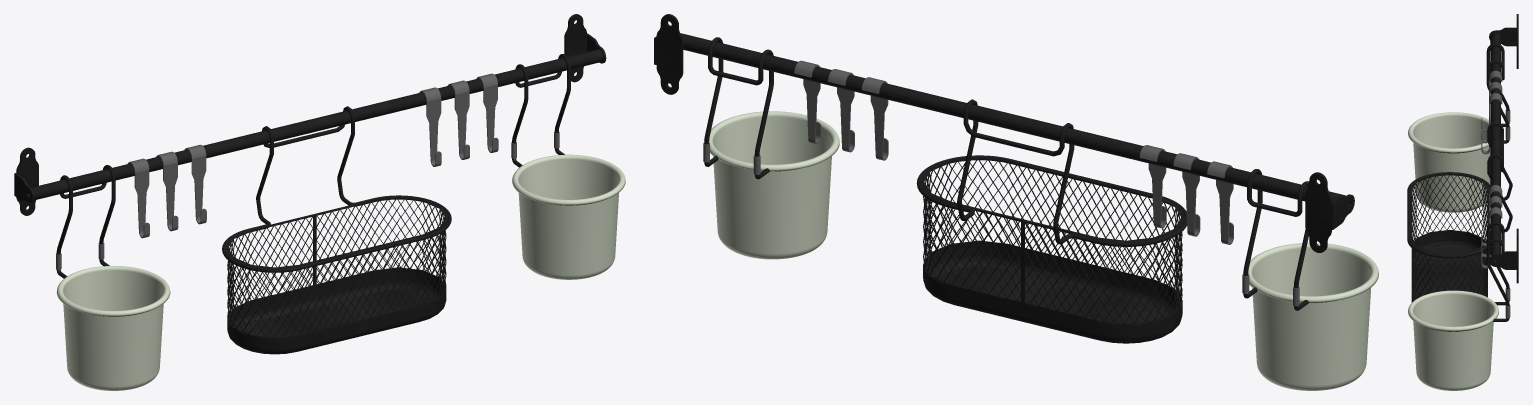
Rendered from 074 - stand divari jadid meshki goldan sabz.glb.
The picture shows the model from 3 angles, left to right: view 1: azimuth 30°, elevation 25°; view 2: azimuth 150°, elevation 25°; view 3: azimuth 270°, elevation 25°; orthographic projection. The views are drawn at different scales.
Visible parts, largest first — view 1: Group#30 [143867] (×2), Group#5 [142237], Group#17 [142236], Group#2 [143854], Group#4 [190724] (×4), Group#28 [143878], [127636] (×2), Group#1 [190723] (×2), Group#25 [143880], [75462], [74579]; view 2: Group#30 [143867] (×2), Group#17 [142236], Group#5 [142237], Group#2 [143854], Group#4 [190724] (×4), Group#28 [143878], [127636] (×2), Group#1 [190723] (×2), [75462], [74579], Group#25 [143880]; view 3: Group#30 [143867] (×2), Group#5 [142237], Group#17 [142236], Group#2 [143854], [127636] (×2), Group#28 [143878], Group#159 [75998] (×2), Group#4 [190724] (×4), Group#25 [143880], Group#1 [190723] (×2), [74579].
Part boxes in pixels (x1,y1,x2,y2): Group#30 [143867] (×2): [56, 154, 625, 390]; Group#5 [142237]: [227, 197, 446, 338]; Group#17 [142236]: [227, 268, 446, 354]; Group#2 [143854]: [31, 49, 603, 199]; Group#4 [190724] (×4): [127, 73, 498, 238]; Group#28 [143878]: [222, 106, 451, 272]; [127636] (×2): [56, 54, 602, 316]; Group#1 [190723] (×2): [156, 144, 206, 231]; Group#25 [143880]: [225, 196, 448, 268]; [75462]: [564, 14, 586, 82]; [74579]: [16, 147, 38, 215]; Group#30 [143867] (×2): [709, 111, 1378, 390]; Group#17 [142236]: [923, 242, 1182, 343]; Group#5 [142237]: [923, 157, 1182, 324]; Group#2 [143854]: [680, 33, 1345, 201]; Group#4 [190724] (×4): [794, 60, 1233, 244]; Group#28 [143878]: [916, 99, 1186, 246]; [127636] (×2): [704, 37, 1336, 310]; Group#1 [190723] (×2): [1139, 145, 1200, 236]; [75462]: [656, 14, 683, 94]; [74579]: [1305, 172, 1331, 252]; Group#25 [143880]: [921, 156, 1184, 241]; Group#30 [143867] (×2): [1408, 112, 1498, 390]; Group#5 [142237]: [1411, 173, 1487, 299]; Group#17 [142236]: [1411, 230, 1487, 302]; Group#2 [143854]: [1490, 32, 1500, 261]; [127636] (×2): [1421, 43, 1509, 331]; Group#28 [143878]: [1407, 122, 1512, 258]; Group#159 [75998] (×2): [1489, 27, 1518, 269]; Group#4 [190724] (×4): [1481, 70, 1502, 268]; Group#25 [143880]: [1410, 173, 1489, 254]; Group#1 [190723] (×2): [1481, 81, 1502, 154]; [74579]: [1516, 14, 1518, 68].
Size of the model in its own units: 0.806 by 0.2792 by 0.1691.
5 materials, 3 textured.
